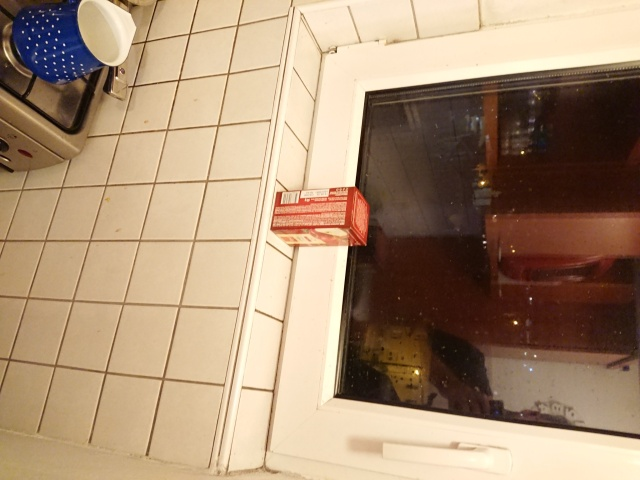Franck Apple Cinnamon Tea 60g: (267, 184, 373, 250)
